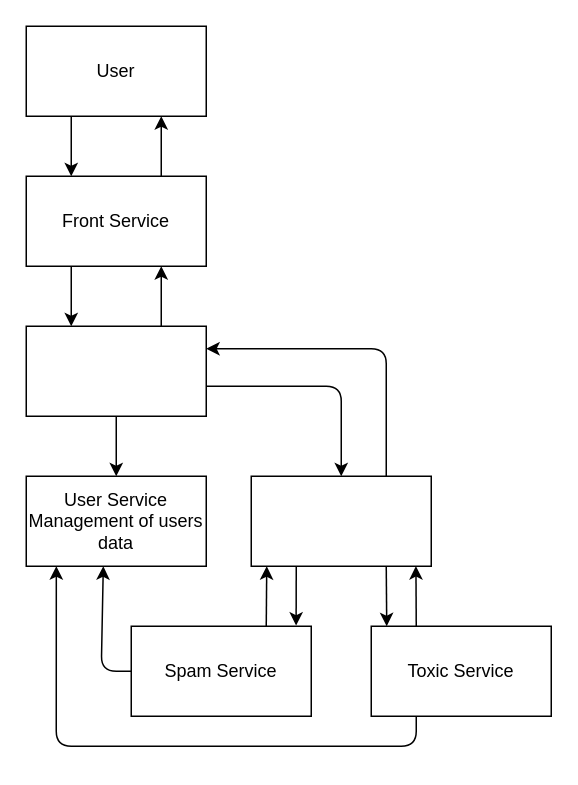
Some shapes in this 578 by 785 pixel diagram are drawn without their labels. Each missing label, with the box of its shape:
API Gateway Service Proxy for UI requests: (25, 325, 206, 416)
Message Service Management of messages: (250, 475, 431, 566)
